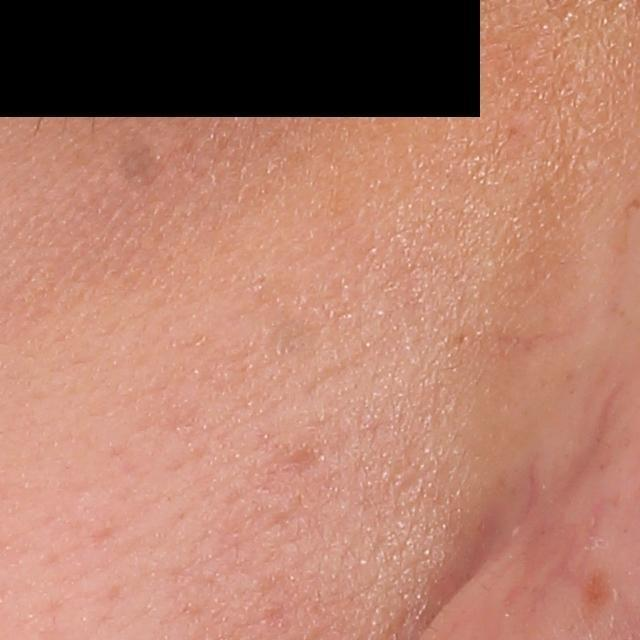other: (263, 318, 322, 366), (117, 133, 163, 192)
